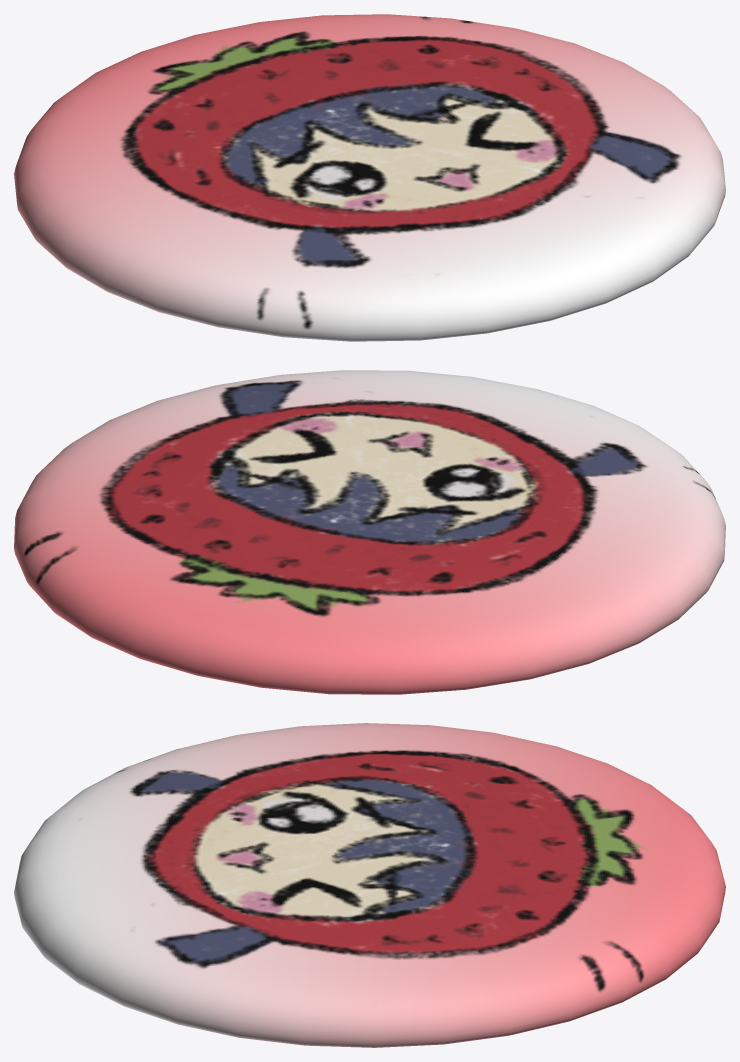
The picture shows the model from 3 angles, top to bottom: view 1: azimuth 30°, elevation 25°; view 2: azimuth 150°, elevation 25°; view 3: azimuth 270°, elevation 25°; orthographic projection.
Visible parts, largest first — view 1: Button_Pin; view 2: Button_Pin; view 3: Button_Pin.
Part boxes in pixels (x1,y1,x2,y2): Button_Pin: [14, 14, 725, 341]; Button_Pin: [14, 370, 725, 694]; Button_Pin: [14, 723, 725, 1047].
Size of the model in its own units: 0.0629 by 0.00761 by 0.0629.
3 materials, 2 textured.
